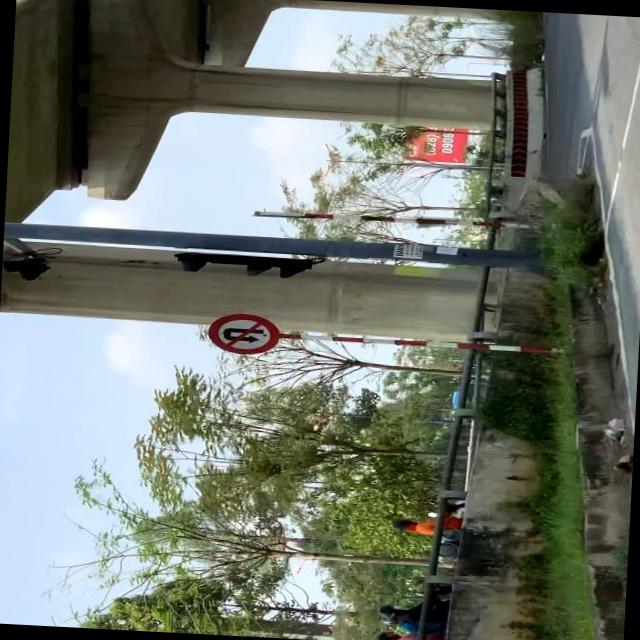P-124a1: (206, 312, 282, 354)
